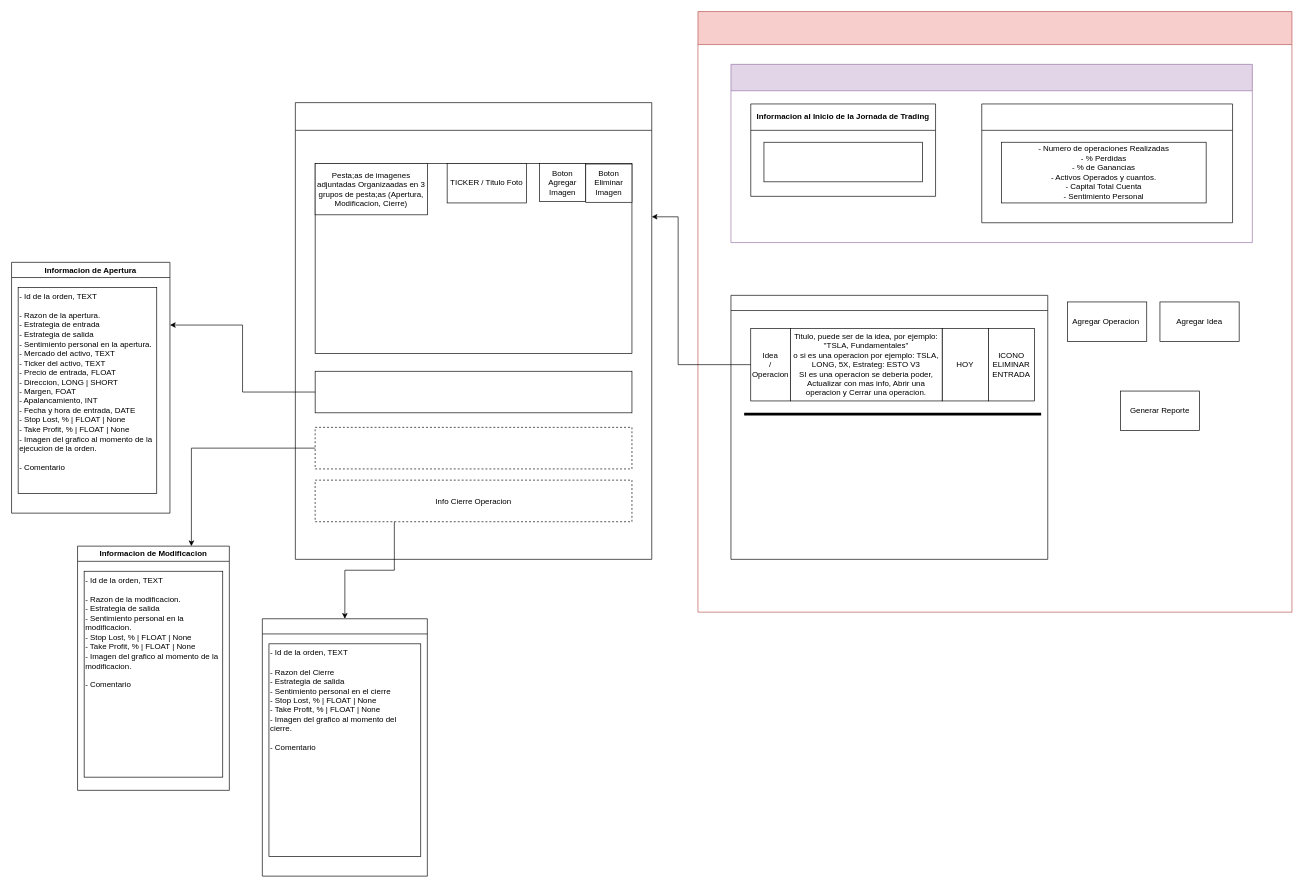
The diagram is 1304 pixels wide and 888 high, and some of its shapes have lost their labels. The box of each missing label's shape, as (x1, y1, x2, y2) in pixels:
- Capital Total Cuenta - Sentimiento Personal: (763, 142, 922, 182)
Diario [Main Page]: (697, 11, 1292, 612)
Diario [Operacion]: (295, 102, 652, 559)
IMGS (SLIDER o con PESTA:AS para seleccionar la o las fotos): (314, 163, 632, 353)
Info Apertura Operacion: (314, 371, 632, 413)
Info Modificaciones en la Operacion: (314, 427, 632, 469)
informacion al Cierre de la jornada de Trading: (981, 103, 1233, 223)
Informacion de Cierre: (262, 618, 427, 876)
Informacion General: (730, 64, 1252, 243)
Lista de Operaciones e Ideas (Entradas): (730, 295, 1048, 559)
